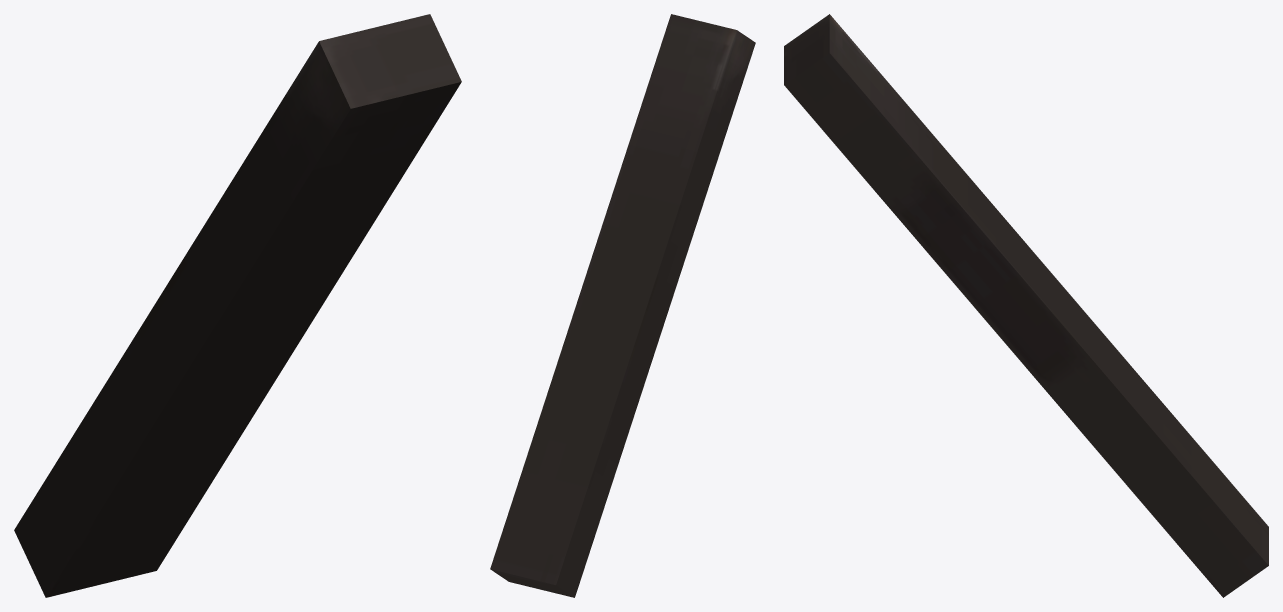
File: support_arm__arm_side_0.glb
3 views of the same model, side by side, from view 1: azimuth 30°, elevation 25°; view 2: azimuth 150°, elevation 25°; view 3: azimuth 270°, elevation 25° (orthographic). The views are drawn at different scales.
Visible parts, largest first — view 1: world; view 2: world; view 3: world.
Boxes of the visible parts, bbox=[...] form: world: bbox=[14, 14, 461, 597]; world: bbox=[490, 14, 755, 597]; world: bbox=[784, 14, 1268, 597].
Bounding box in the file's own units: 0.04 × 0.2602 × 0.2098.
1 material, 1 textured.
